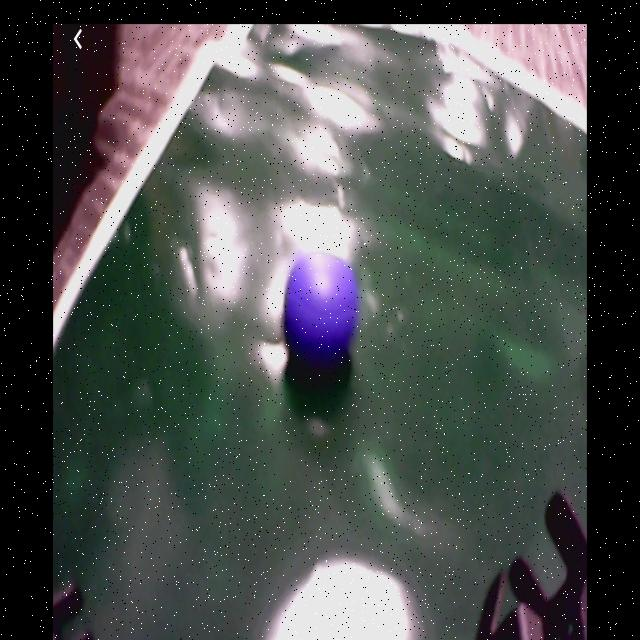ball: (283, 254, 358, 360)
